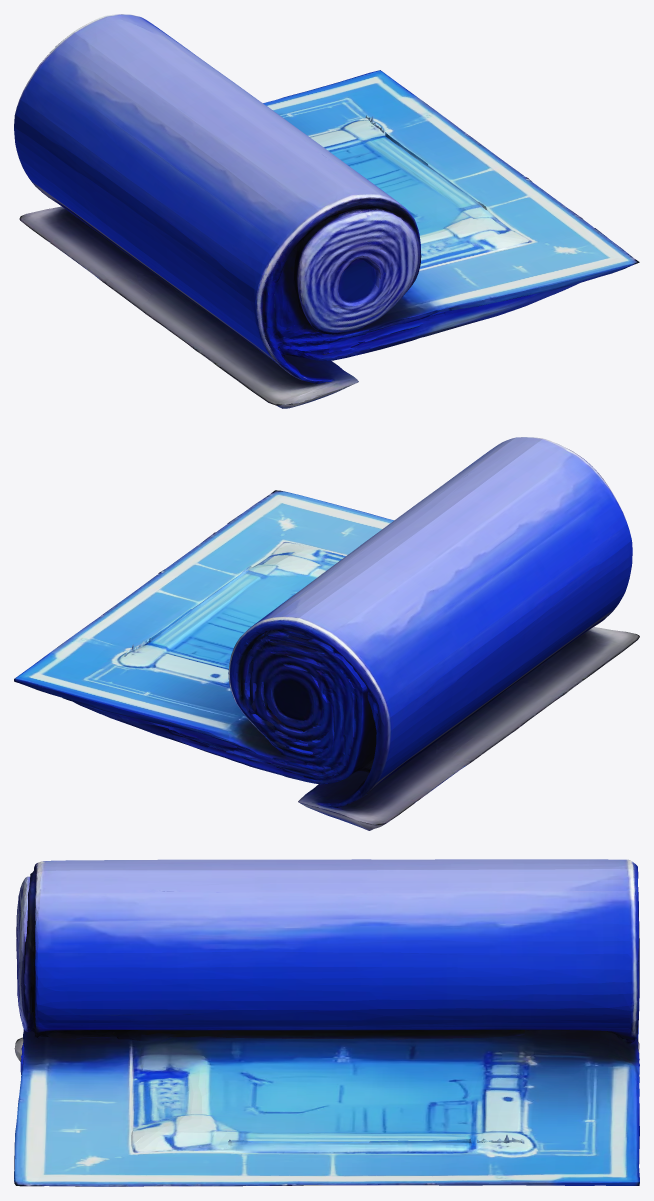
File: blue_print.glb
The picture shows the model from 3 angles, top to bottom: view 1: azimuth 30°, elevation 25°; view 2: azimuth 150°, elevation 25°; view 3: azimuth 270°, elevation 25°; orthographic projection. The views are drawn at different scales.
Parts seen in each view (by area): view 1: geometry_0; view 2: geometry_0; view 3: geometry_0.
Boxes of the visible parts, x1=… form: geometry_0: x1=14, y1=14, x2=639, y2=408; geometry_0: x1=14, y1=437, x2=639, y2=830; geometry_0: x1=14, y1=859, x2=639, y2=1186.
Bounding box in the file's own units: 0.8272 × 0.4211 × 1.
1 material, 1 textured.
